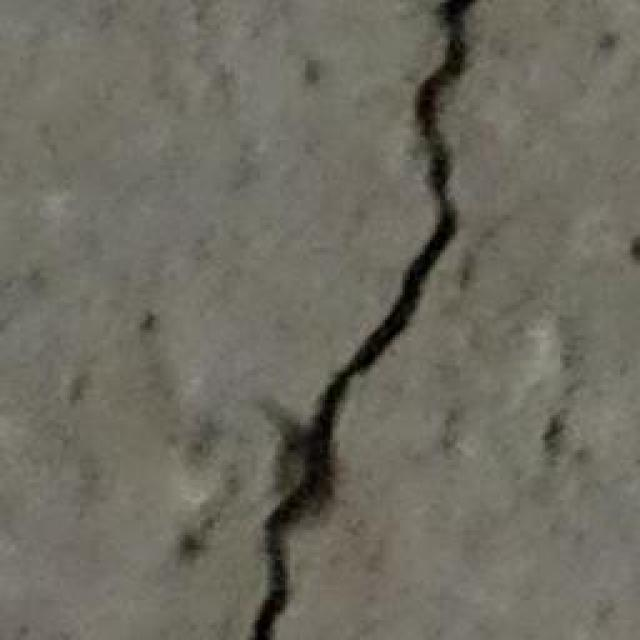Longitudinal: (232, 0, 491, 640)
